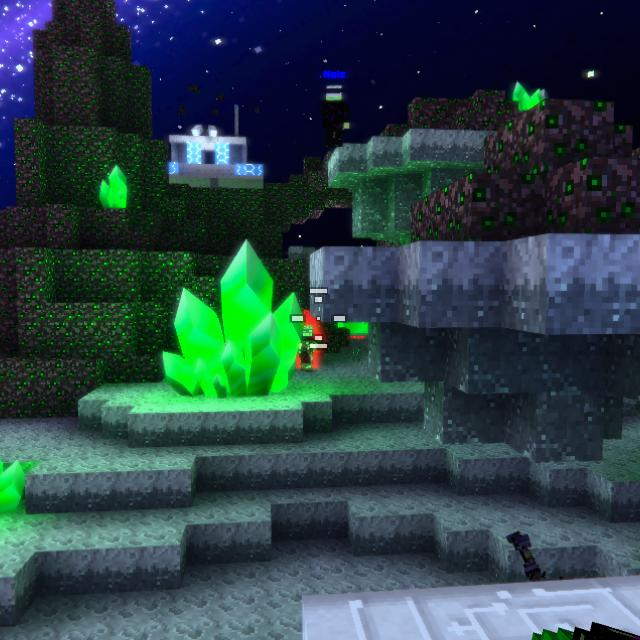Enemy: (297, 325, 323, 372)
